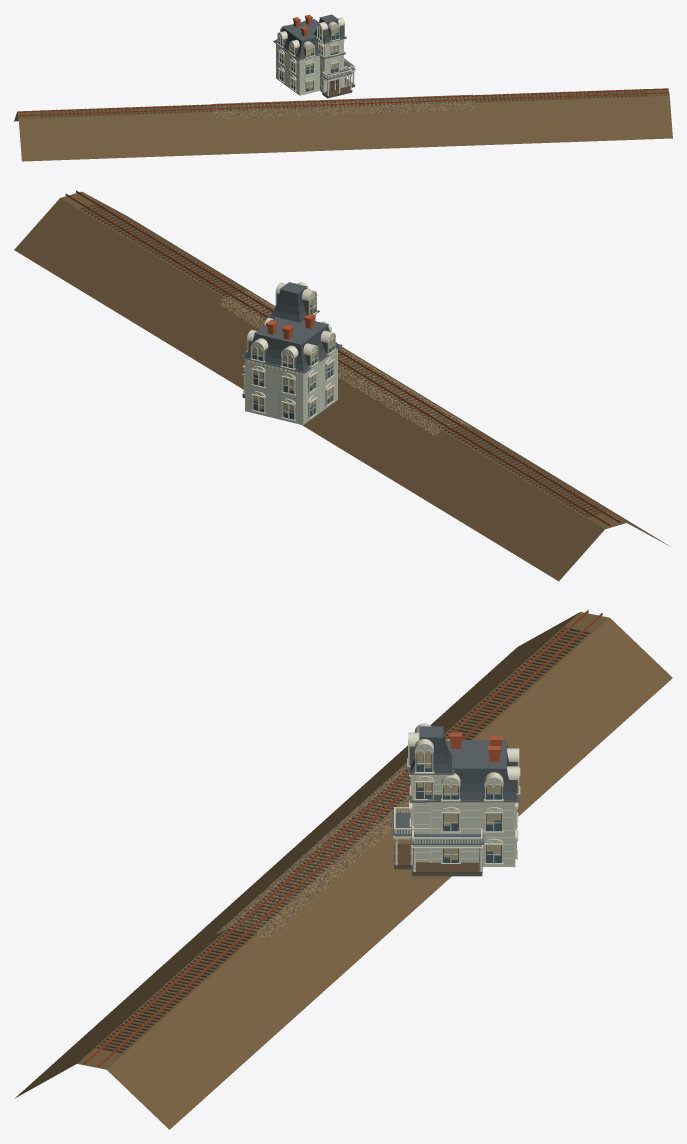
The model's file is railroad-base-gpt-6-2-astra.glb.
3 renders of one model, top to bottom at view 1: azimuth 30°, elevation 25°; view 2: azimuth 150°, elevation 25°; view 3: azimuth 270°, elevation 25°, orthographic. The views are drawn at different scales.
Visible parts, largest first — view 1: Sloped railway embankment, Angular gravel aggregate, Enclosed timber volume, Rolled rail section.002, Rolled rail section.004, Rolled rail section.001, Rolled rail section.005, Rolled rail section, Rolled rail section.003, Enclosed timber volume.001, Profile course.003, Bell cast hipped mansard; view 2: Sloped railway embankment, Angular gravel aggregate, Enclosed timber volume, Bell cast hipped mansard, Profile course.003, Bell cast hipped mansard.001, Rolled rail section.002, Rolled rail section.005, Rolled rail section.001, Rolled rail section.004, Rolled rail section, Rolled rail section.003; view 3: Sloped railway embankment, Angular gravel aggregate, Enclosed timber volume, Profile course.003, Bell cast hipped mansard, Rolled rail section.002, Rolled rail section.005, Enclosed timber volume.001.
Part boxes in pixels (x1,y1,x2,y2): Sloped railway embankment: (14,88,672,161); Angular gravel aggregate: (212,94,475,119); Enclosed timber volume: (276,44,319,95); Rolled rail section.002: (18,92,669,115); Rolled rail section.004: (18,89,668,112); Rolled rail section.001: (18,92,668,115); Rolled rail section.005: (17,88,668,111); Rolled rail section: (18,93,668,116); Rolled rail section.003: (18,89,668,112); Enclosed timber volume.001: (318,40,342,92); Profile course.003: (282,19,318,40); Bell cast hipped mansard: (275,28,319,58); Sloped railway embankment: (14,191,670,581); Angular gravel aggregate: (218,290,471,435); Enclosed timber volume: (246,350,336,424); Bell cast hipped mansard: (243,326,339,371); Profile course.003: (254,317,328,345); Bell cast hipped mansard.001: (270,288,306,322); Rolled rail section.002: (76,190,620,522); Rolled rail section.005: (66,193,610,525); Rolled rail section.001: (76,191,621,522); Rolled rail section.004: (65,194,610,526); Rolled rail section: (76,192,621,523); Rolled rail section.003: (65,195,611,526); Sloped railway embankment: (15,612,672,1129); Angular gravel aggregate: (216,762,410,940); Enclosed timber volume: (431,803,513,866); Profile course.003: (445,740,506,769); Bell cast hipped mansard: (428,745,516,800); Rolled rail section.002: (84,610,588,1062); Rolled rail section.005: (98,613,602,1065); Enclosed timber volume.001: (414,776,445,862).
Size of what is drawn, in the model's own units: 106 by 16.98 by 61.33.
